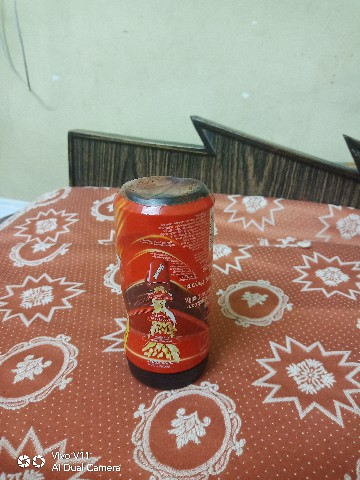boost small: (89, 159, 226, 388)
